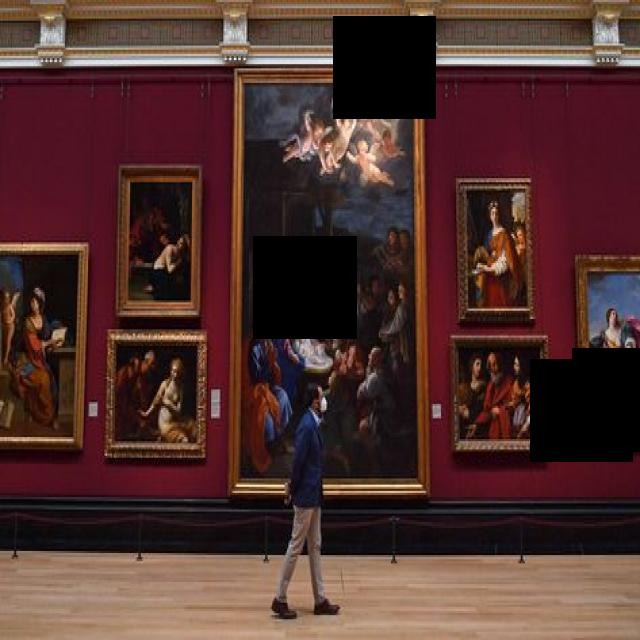Tablo: (238, 81, 418, 480), (114, 344, 198, 444), (458, 345, 542, 440), (587, 271, 640, 421), (128, 180, 192, 303), (466, 191, 528, 309)
